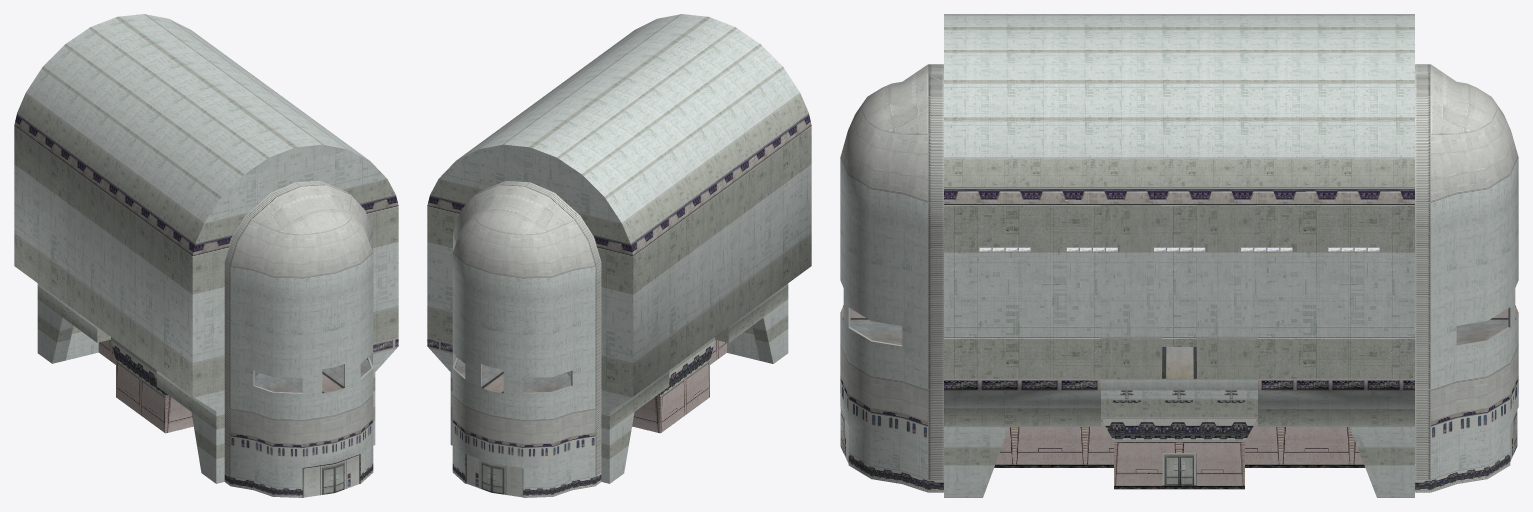
The model's file is bes2_bldg_mall.glb.
The picture shows the model from 3 angles, left to right: view 1: azimuth 30°, elevation 25°; view 2: azimuth 150°, elevation 25°; view 3: azimuth 270°, elevation 25°; orthographic projection. The views are drawn at different scales.
Visible parts, largest first — view 1: mesh_part7, mesh_part8, mesh_part11, mesh_part9, mesh_part3; view 2: mesh_part7, mesh_part8, mesh_part11, mesh_part9, mesh_part3; view 3: mesh_part7, mesh_part8, mesh_part9, mesh_part11, mesh_part12, mesh_part3, mesh_part10, mesh_part4, mesh_part6.
Boxes of the visible parts, x1,y1,x2,y2 form: mesh_part7: (14,14,398,488); mesh_part8: (111,181,373,497); mesh_part11: (14,113,398,497); mesh_part9: (98,337,398,433); mesh_part3: (255,359,370,392); mesh_part7: (427,14,811,488); mesh_part8: (452,181,714,497); mesh_part11: (427,113,811,497); mesh_part9: (427,337,726,433); mesh_part3: (455,359,570,393); mesh_part7: (840,14,1518,497); mesh_part8: (840,64,1518,492); mesh_part9: (944,378,1414,485); mesh_part11: (840,187,1518,485); mesh_part12: (1101,390,1257,410); mesh_part3: (850,319,1508,345); mesh_part10: (994,464,1365,489); mesh_part4: (840,305,1518,378); mesh_part6: (979,247,1379,251).
Bounding box in the file's own units: 36.07 × 52.95 × 77.72.
12 materials, 12 textured.
